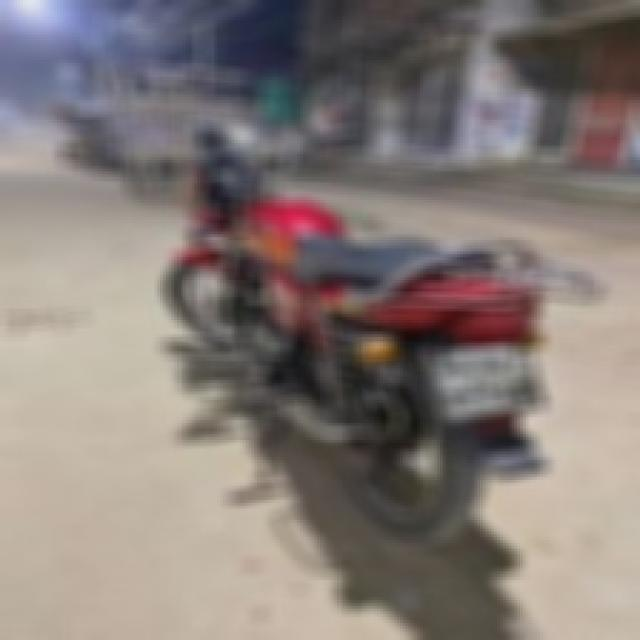bike: (131, 127, 565, 527)
